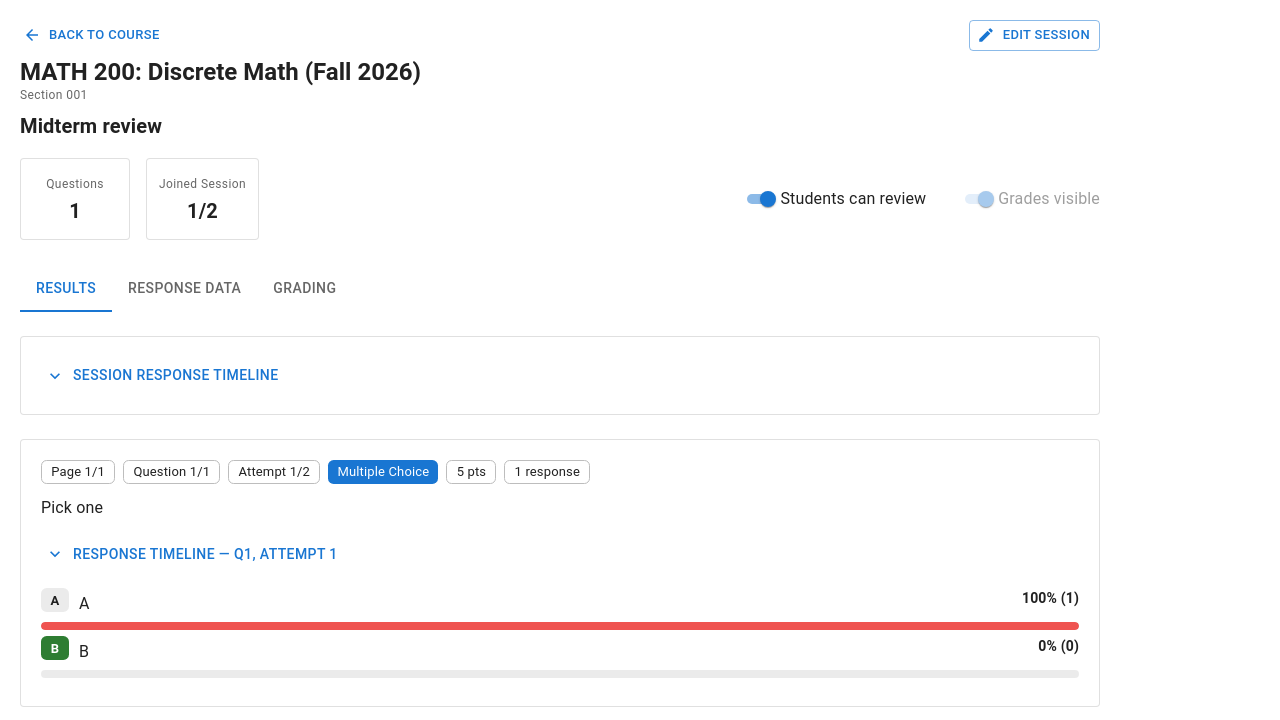
SessionReview › shows points only for an explicit question mark (0)
Click the tab "Response Data" at (185, 288), box [112, 264, 257, 312]
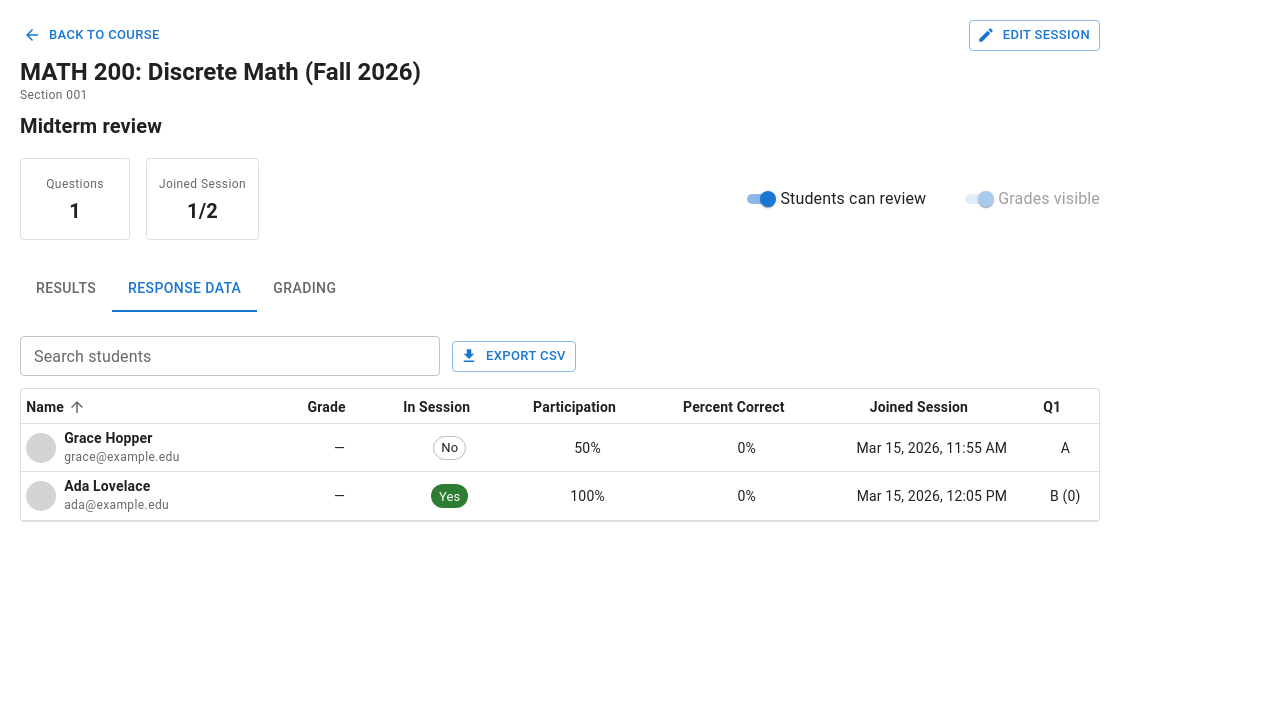
Expected: the cell "B (0)" is shown, [1032, 472, 1099, 521]
